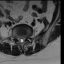CCS_stenosis: (20, 36, 23, 44)
LFS_severe_stenosis: (25, 34, 28, 39)
LLS_normal: (23, 36, 25, 43)
RFS_stenosis: (15, 34, 18, 41)
RLS_normal: (18, 36, 20, 42)
